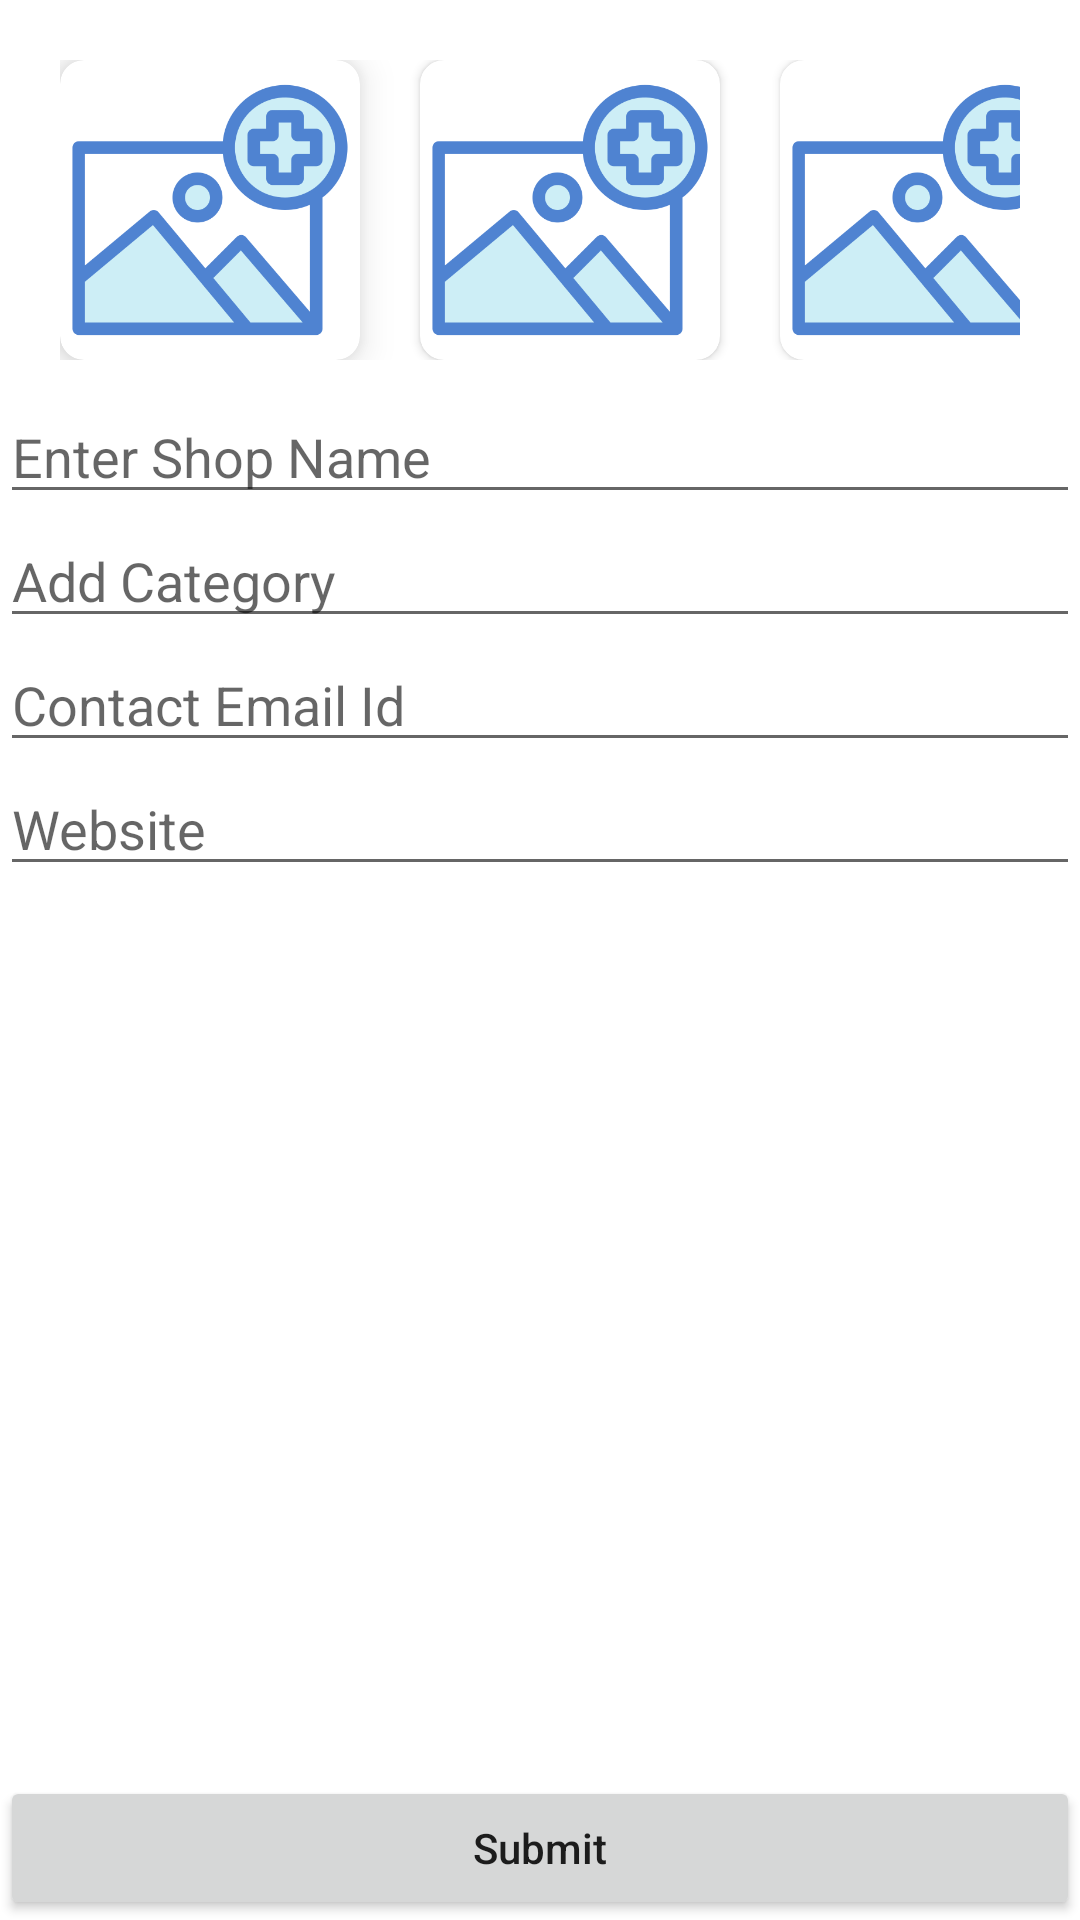

Point at icon controls on the screen. Image size 1080*1920, points as [x,y].
Front Image: [204,214]
